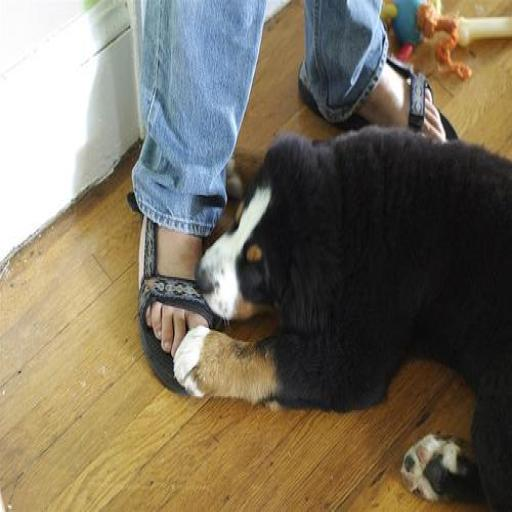dog_face: (208, 142, 348, 336)
